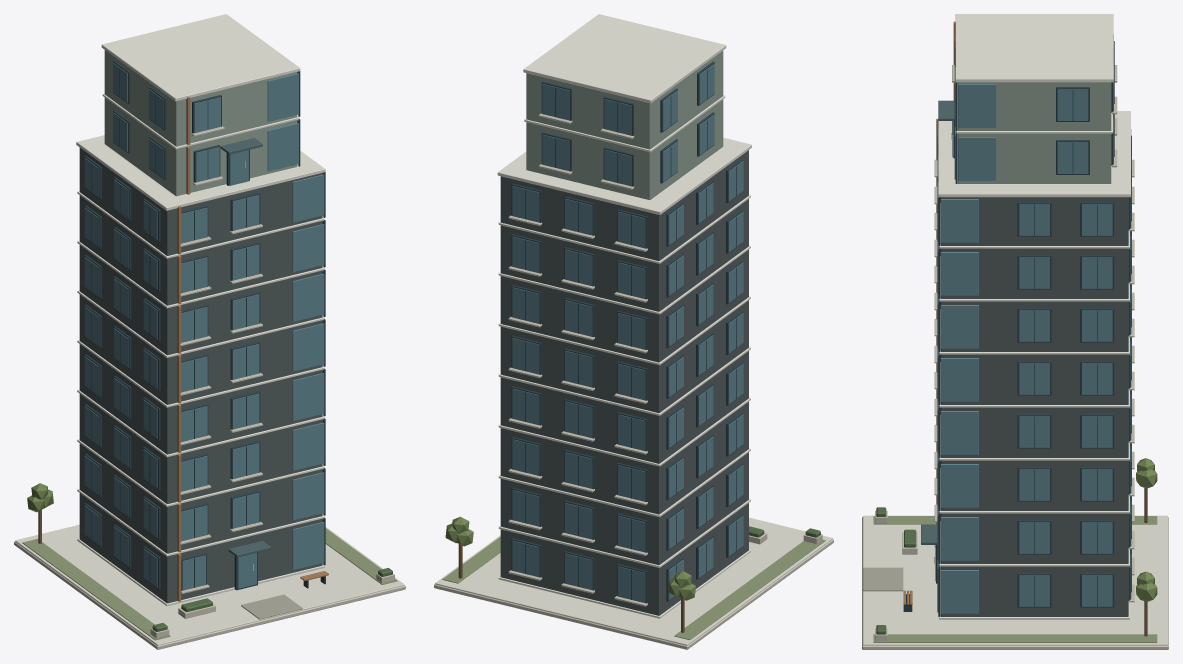
The model's file is large-4x4-b.glb.
The picture shows the model from 3 angles, left to right: view 1: azimuth 30°, elevation 25°; view 2: azimuth 150°, elevation 25°; view 3: azimuth 270°, elevation 25°; orthographic projection. The views are drawn at different scales.
Visible parts, largest first — view 1: BuildingBody, LotTop, BuildingBody.001, RoofCap.001, RoofCap, GrassSide, LotBase, CornerGlazingFront.002, CornerGlazingFront.003, CornerGlazingFront.004, CornerGlazingFront, CornerGlazingFront.006 (+35 smaller); view 2: BuildingBody, BuildingBody.001, RoofCap.001, LotTop, RoofCap, GrassSide, LotBase, FloorBand.002, FloorBand.005, FloorBand.006, FloorBand.001, FloorBand.003 (+33 smaller); view 3: BuildingBody, LotTop, RoofCap.001, BuildingBody.001, RoofCap, GrassSide.001, LotBase, CornerGlazingSide, CornerGlazingSide.001, CornerGlazingSide.002, CornerGlazingSide.003, CornerGlazingSide.004 (+34 smaller).
Boxes of the visible parts, x1,y1,x2,y2 form: BuildingBody: (79,147,322,603); LotTop: (15,524,404,645); BuildingBody.001: (104,50,297,196); RoofCap.001: (101,14,300,101); RoofCap: (76,135,325,210); GrassSide: (22,539,170,640); LotBase: (14,541,405,649); CornerGlazingFront.002: (292,422,324,470); CornerGlazingFront.003: (292,373,324,421); CornerGlazingFront.004: (292,323,324,371); CornerGlazingFront: (292,522,324,569); CornerGlazingFront.006: (292,224,324,272); BuildingBody: (500,150,748,615); BuildingBody.001: (526,51,723,199); RoofCap.001: (523,14,726,103); LotTop: (435,517,832,645); RoofCap: (497,137,751,214); GrassSide: (674,539,825,639); LotBase: (434,539,833,649); FloorBand.002: (498,448,750,517); FloorBand.005: (498,296,750,365); FloorBand.006: (498,245,750,314); FloorBand.001: (498,499,750,567); FloorBand.003: (498,397,750,466); BuildingBody: (940,197,1128,616); LotTop: (863,515,1167,645); RoofCap.001: (955,14,1113,82); BuildingBody.001: (958,82,1111,183); RoofCap: (938,111,1130,197); GrassSide.001: (873,634,1157,642); LotBase: (862,517,1168,649); CornerGlazingSide: (940,570,978,613); CornerGlazingSide.001: (940,517,978,560); CornerGlazingSide.002: (940,464,978,507); CornerGlazingSide.003: (940,411,978,454); CornerGlazingSide.004: (940,358,978,401).
Size of the model in its own units: 16 by 31.02 by 16.
